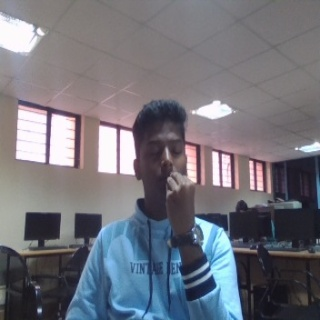Food: (162, 169, 196, 236)
